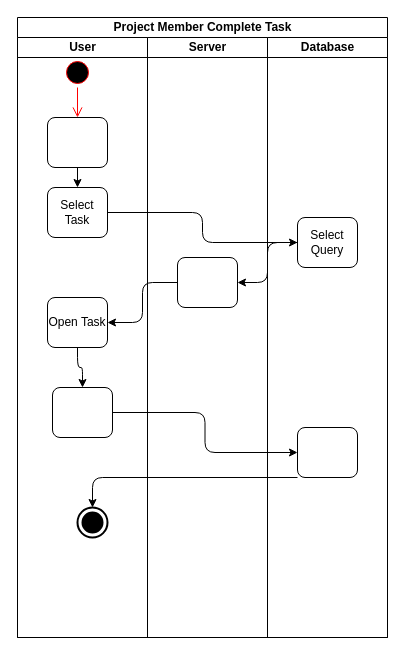
This 405x655 diagram has some shape labels left out. The shapes that lost their labels are listed below. From the top down, each one's centre as x and y in pixels, then its label:
At point 77,142: "View Task".
At point 207,282: "Get Info".
At point 82,412: "Complete Task".
At point 327,452: "Query".
